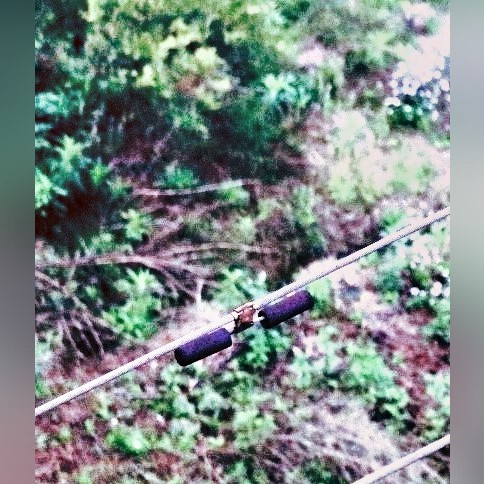Shockproof hammer: (166, 278, 317, 373)
